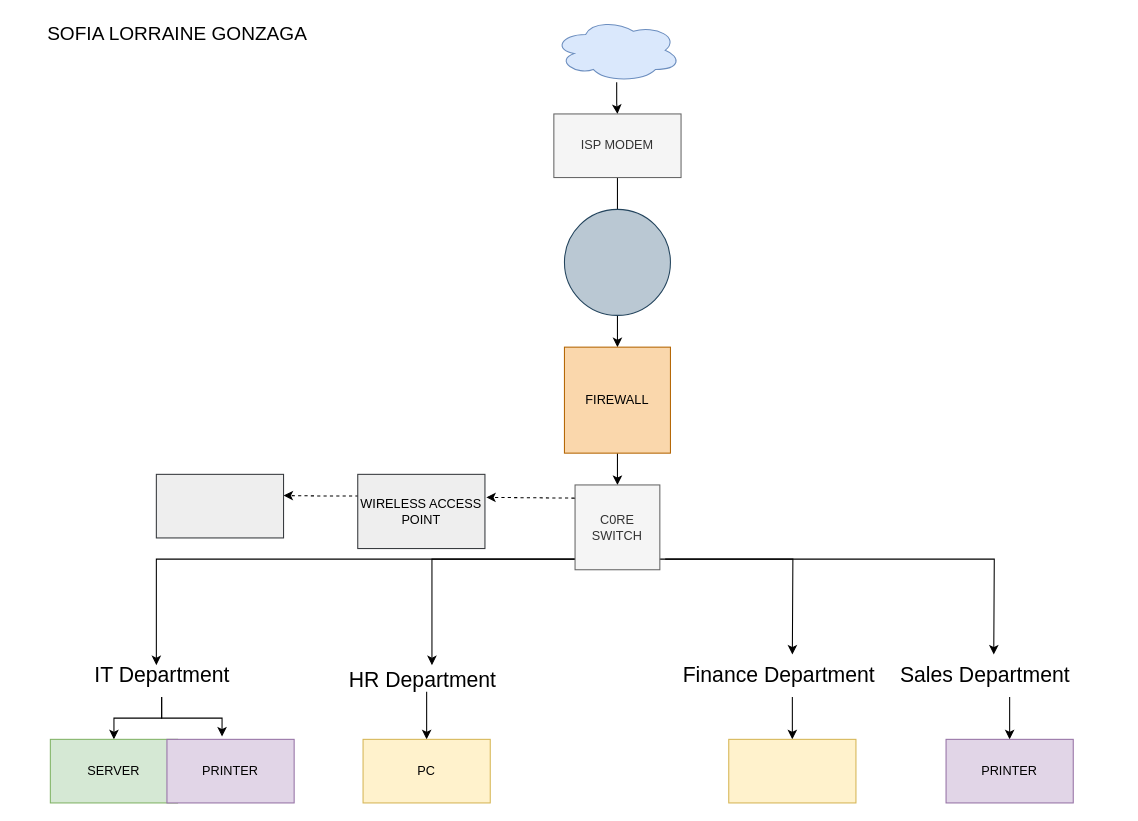
This 1138x821 diagram has some shape labels left out. Here are the shapes that lost their labels. From the top down, the centre of each, then its label:
At pixel 617 49: "INTERNET".
At pixel 616 261: "ROUTER".
At pixel 219 505: "WIRELESS DEVICES".
At pixel 792 770: "WORK STATION".
